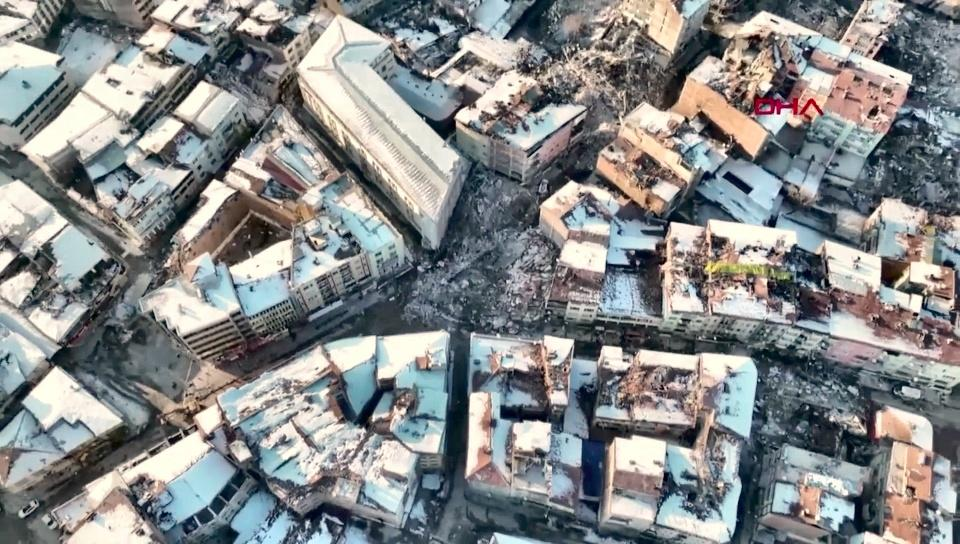kapali: (382, 166, 583, 324), (757, 364, 888, 406)
